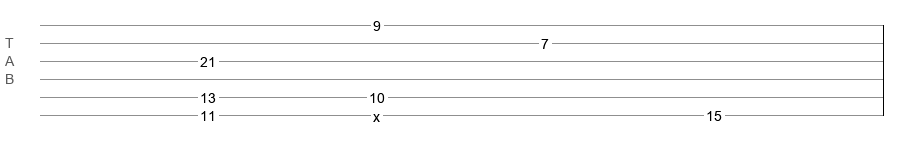10: (369, 90, 385, 100)
11: (200, 108, 216, 118)
13: (200, 90, 216, 100)
15: (706, 108, 722, 118)
21: (200, 54, 216, 64)
7: (541, 36, 549, 46)
9: (373, 18, 381, 28)
x: (373, 109, 380, 117)
